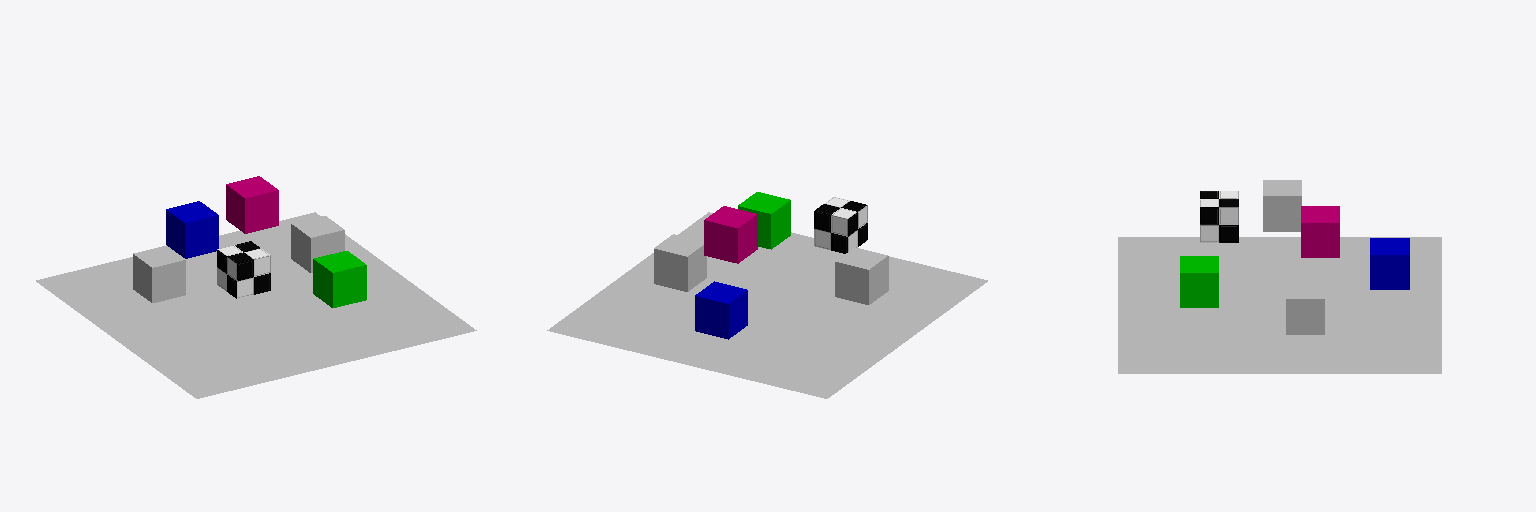
The picture shows the model from 3 angles: view 1: azimuth 30°, elevation 25°; view 2: azimuth 150°, elevation 25°; view 3: azimuth 270°, elevation 25°; orthographic projection.
Visible parts, largest first — view 1: Plane_Plane.002, Cube.003_Cube.004, Cube.001_Cube.002, Cube_Cube.001, Cube.002_Cube.003, Cube.004_Cube.005, Cube.005_Cube.006; view 2: Plane_Plane.002, Cube_Cube.001, Cube.002_Cube.003, Cube.003_Cube.004, Cube.004_Cube.005, Cube.005_Cube.006, Cube.001_Cube.002; view 3: Plane_Plane.002, Cube.004_Cube.005, Cube_Cube.001, Cube.001_Cube.002, Cube.003_Cube.004, Cube.005_Cube.006, Cube.002_Cube.003.
Boxes of the visible parts, box(x1,y1,x2,y2) form: Plane_Plane.002: box(36, 212, 476, 398); Cube.003_Cube.004: box(217, 241, 270, 298); Cube.001_Cube.002: box(313, 251, 366, 307); Cube_Cube.001: box(226, 176, 278, 233); Cube.002_Cube.003: box(133, 245, 185, 302); Cube.004_Cube.005: box(166, 201, 218, 258); Cube.005_Cube.006: box(291, 216, 344, 272); Plane_Plane.002: box(547, 212, 987, 398); Cube_Cube.001: box(704, 206, 757, 263); Cube.002_Cube.003: box(835, 247, 888, 304); Cube.003_Cube.004: box(814, 197, 867, 253); Cube.004_Cube.005: box(695, 281, 747, 339); Cube.005_Cube.006: box(654, 234, 706, 291); Cube.001_Cube.002: box(738, 192, 790, 249); Plane_Plane.002: box(1118, 237, 1441, 373); Cube.004_Cube.005: box(1370, 238, 1409, 289); Cube_Cube.001: box(1301, 206, 1339, 257); Cube.001_Cube.002: box(1180, 256, 1218, 307); Cube.003_Cube.004: box(1200, 191, 1238, 242); Cube.005_Cube.006: box(1286, 283, 1324, 334); Cube.002_Cube.003: box(1263, 180, 1301, 231).
Size of the model in its own units: 5 by 1.7 by 5.
7 materials, 1 textured.